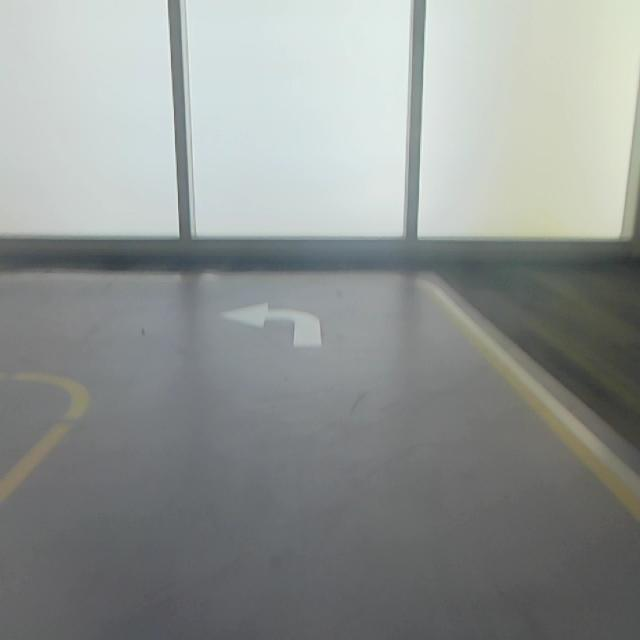left_lane: (0, 403, 85, 506)
right_lane: (431, 282, 640, 525)
